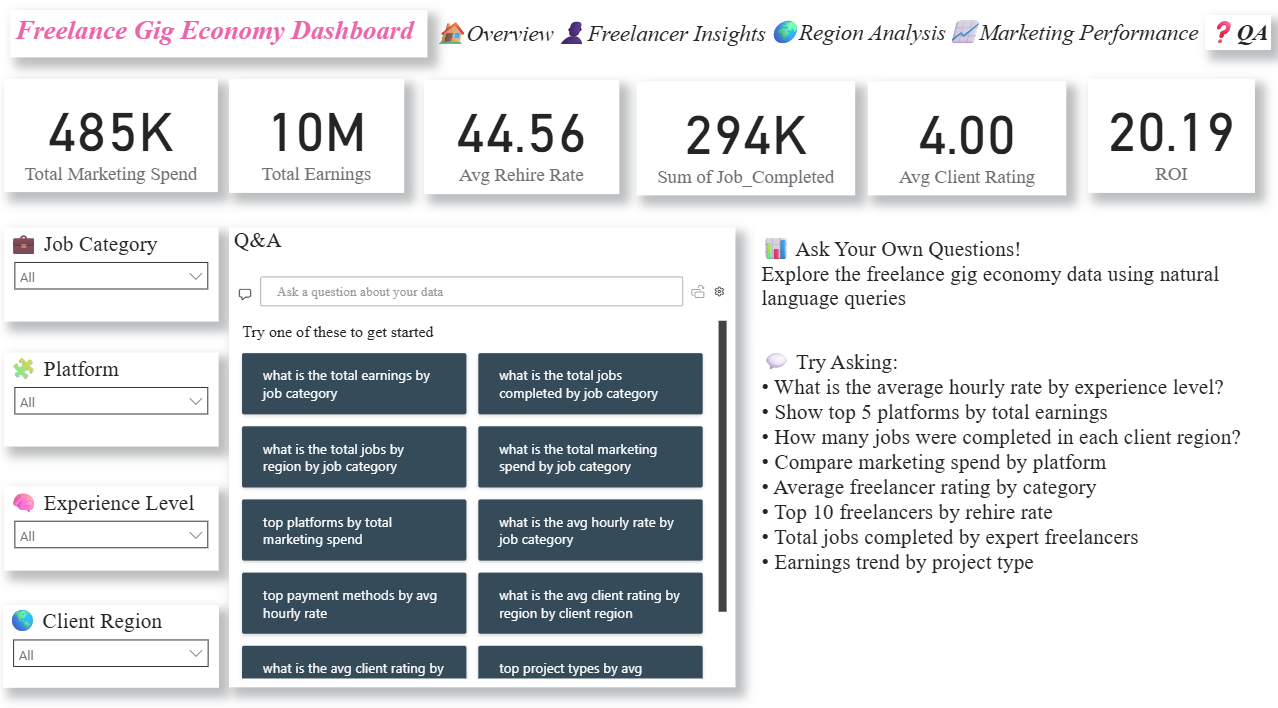

Layout of this report page (visuals, bound fields, positions):
{"tool":"powerbi","page":{"name":"QA","canvas":[1280,720],"ordinal":4},"visuals":[{"type":"card","fields":{"Values":["freelancer_earnings_bd.Total Marketing Spend"]},"box":[10,88.6,212.9,112.9],"z":0},{"type":"card","fields":{"Values":["freelancer_earnings_bd.Total Earnings"]},"box":[233.9,88.3,174.2,113.2],"z":1000},{"type":"card","fields":{"Values":["freelancer_earnings_bd.Avg Rehire Rate"]},"box":[427.9,89.6,194.1,113.2],"z":2000},{"type":"card","fields":{"Values":["Sum(freelancer_earnings_bd.Job_Completed)"]},"box":[639.4,90.8,217.7,113.2],"z":3000},{"type":"card","fields":{"Values":["freelancer_earnings_bd.Avg Client Rating"]},"box":[869.5,90.8,197.8,113.2],"z":4000},{"type":"card","fields":{"Values":["freelancer_earnings_bd.ROI"]},"box":[1088.5,88.3,166.7,113.2],"z":5000},{"type":"slicer","title":"🧠 Experience Level","fields":{"Values":["freelancer_earnings_bd.Experience_Level"]},"box":[10.1,493.4,213.5,83.7],"z":6000},{"type":"slicer","title":"💼 Job Category","fields":{"Values":["freelancer_earnings_bd.Job_Category"]},"box":[10.1,236.6,213.5,93.8],"z":7000},{"type":"slicer","title":"🌎 Client Region","fields":{"Values":["freelancer_earnings_bd.Client_Region"]},"box":[8.7,611.7,215,82.2],"z":8000},{"type":"slicer","title":"🧩 Platform","fields":{"Values":["freelancer_earnings_bd.Platform"]},"box":[10.1,360.7,213.5,93.8],"z":9000},{"type":"qnaVisual","title":"Q&A","box":[233.9,236.4,503.8,457.8],"z":10000},{"type":"textbox","box":[758.8,236.4,496.3,92.1],"z":11000},{"type":"textbox","box":[758.8,349.6,496.3,262.5],"z":12000},{"type":"actionButton","title":"🏠Overview","box":[438.6,26,121.2,36.1],"z":13000},{"type":"actionButton","title":"👤Freelancer Insights","box":[559.8,26,210.6,34.6],"z":14000},{"type":"actionButton","title":"🌍Region Analysis","box":[770.4,24.5,178.9,36.1],"z":15000},{"type":"actionButton","title":"📈Marketing Performance","box":[949.1,24.9,256.3,34.8],"z":16000},{"type":"actionButton","title":"❓QA","box":[1205.4,24.9,65.9,34.8],"z":17000},{"type":"textbox","box":[16.2,19.9,415.5,47.3],"z":18000}]}

Visuals, with their boxes in screenshot pixels (x1, y1, x2, y2), scaled from the page's 1280x720 canvas onto the 1278x708 screenshot:
card - freelancer_earnings_bd.Total Marketing Spend: 10,87,223,198
card - freelancer_earnings_bd.Total Earnings: 234,87,407,198
card - freelancer_earnings_bd.Avg Rehire Rate: 427,88,621,199
card - Sum(freelancer_earnings_bd.Job_Completed): 638,89,856,201
card - freelancer_earnings_bd.Avg Client Rating: 868,89,1066,201
card - freelancer_earnings_bd.ROI: 1087,87,1253,198
"🧠 Experience Level" slicer: 10,485,223,567
"💼 Job Category" slicer: 10,233,223,325
"🌎 Client Region" slicer: 9,602,223,682
"🧩 Platform" slicer: 10,355,223,447
"Q&A" qnaVisual: 234,232,737,683
textbox: 758,232,1253,323
textbox: 758,344,1253,602
"🏠Overview" actionButton: 438,26,559,61
"👤Freelancer Insights" actionButton: 559,26,769,60
"🌍Region Analysis" actionButton: 769,24,948,60
"📈Marketing Performance" actionButton: 948,24,1204,59
"❓QA" actionButton: 1204,24,1269,59
textbox: 16,20,431,66
